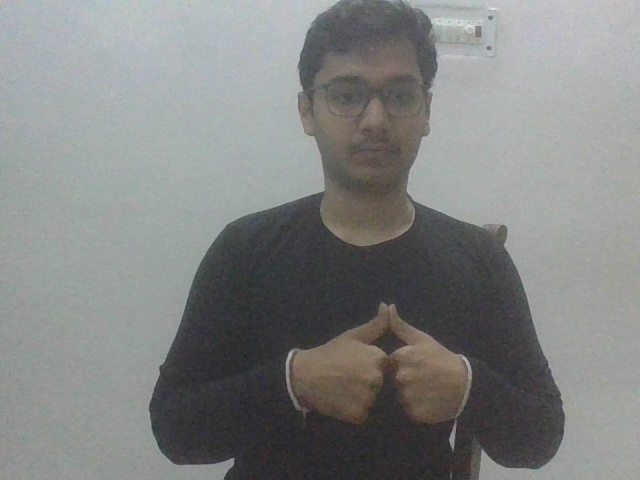A: (286, 302, 476, 431)
